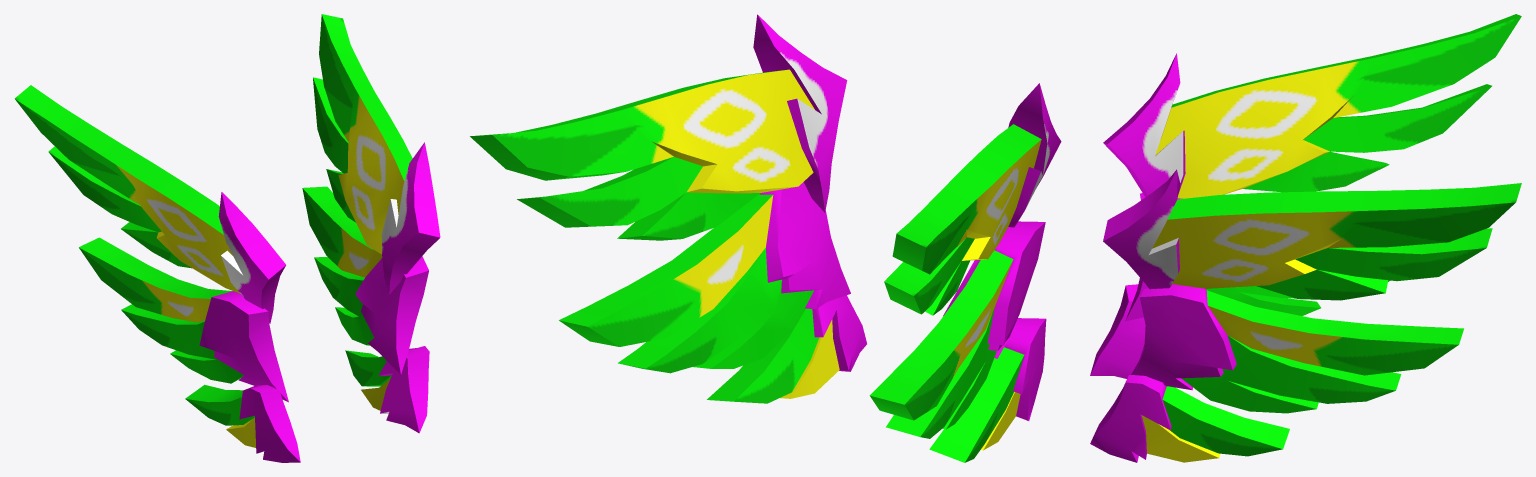
The model's file is seraph.glb.
3 renders of one model, left to right at view 1: azimuth 30°, elevation 25°; view 2: azimuth 150°, elevation 25°; view 3: azimuth 270°, elevation 25°, orthographic. The views are drawn at different scales.
Parts seen in each view (by area): view 1: Wings_5; view 2: Wings_5; view 3: Wings_5.
Boxes of the visible parts, x1,y1,x2,y2 form: Wings_5: [14, 14, 440, 462]; Wings_5: [470, 14, 1061, 462]; Wings_5: [1090, 14, 1521, 462].
Size of the model in its own units: 0.9288 by 0.7357 by 0.8998.
1 material, 1 textured.
